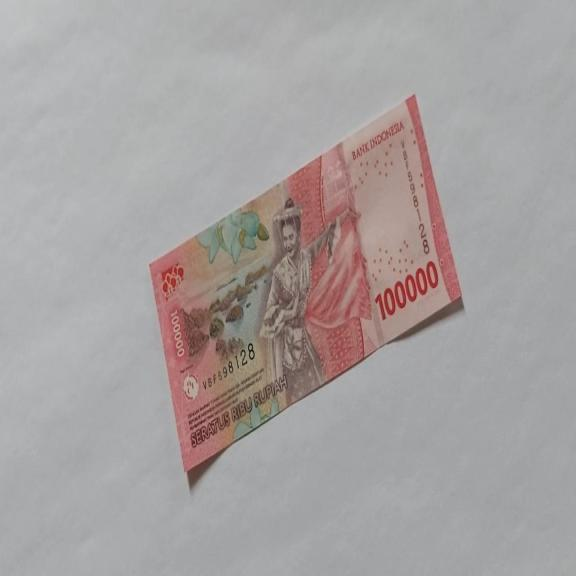Kertas: (374, 258, 439, 322)
